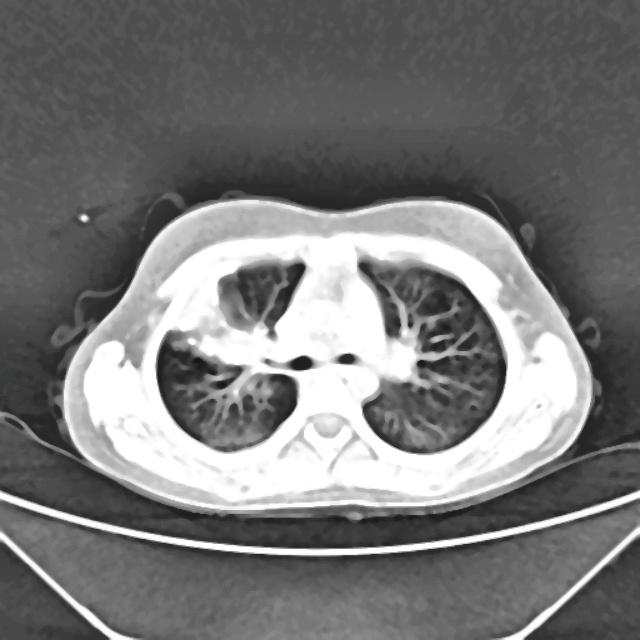covid: (59, 191, 596, 520)
